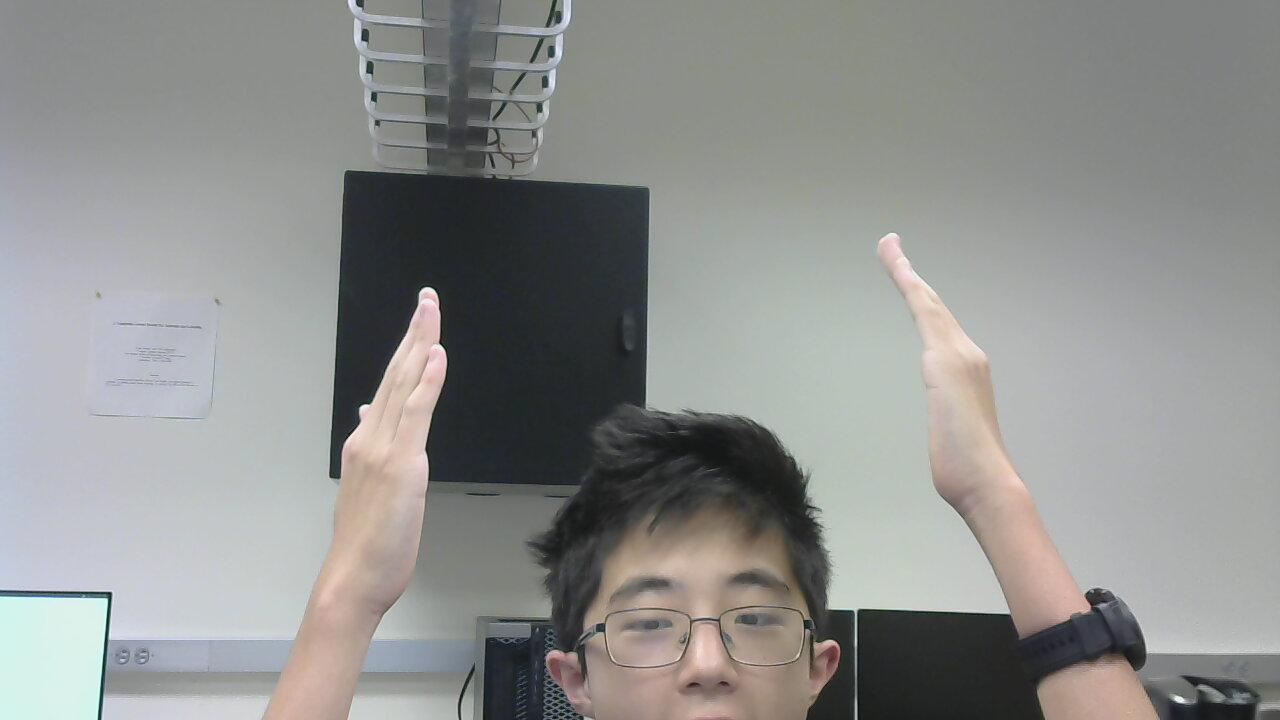hands: (872, 227, 1042, 526), (318, 265, 443, 618)
